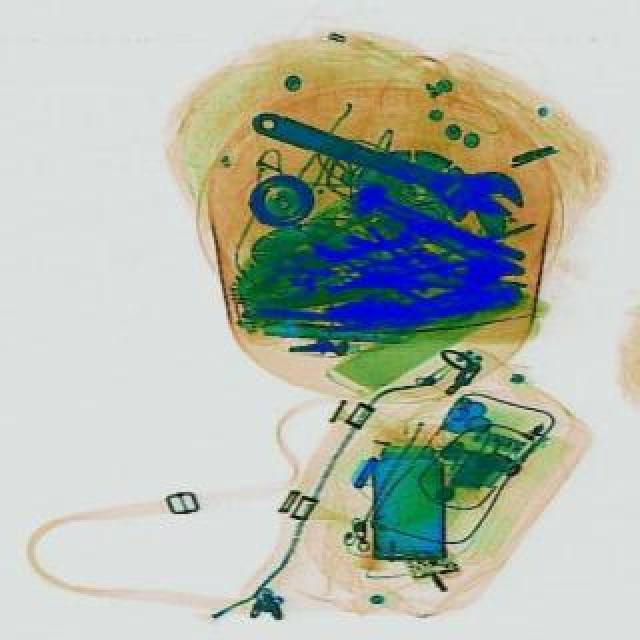scissors: (242, 86, 530, 238)
